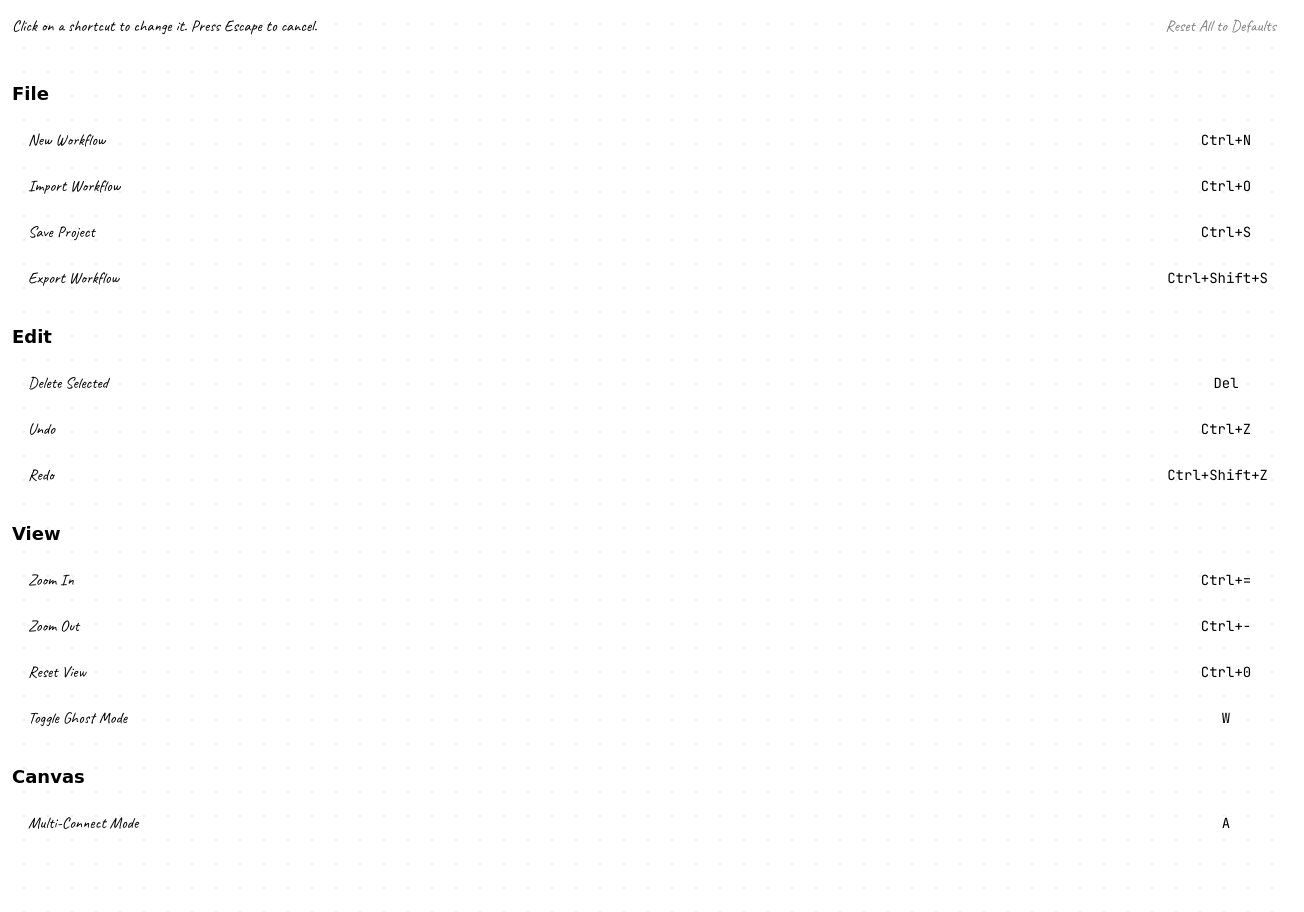
Scenario: KeybindingsPanel › editing mode › should exit editing mode when pressing Escape
// Enter editing mode
Step 1. Click the button "Del" → (1226, 383), box [1176, 370, 1276, 396]
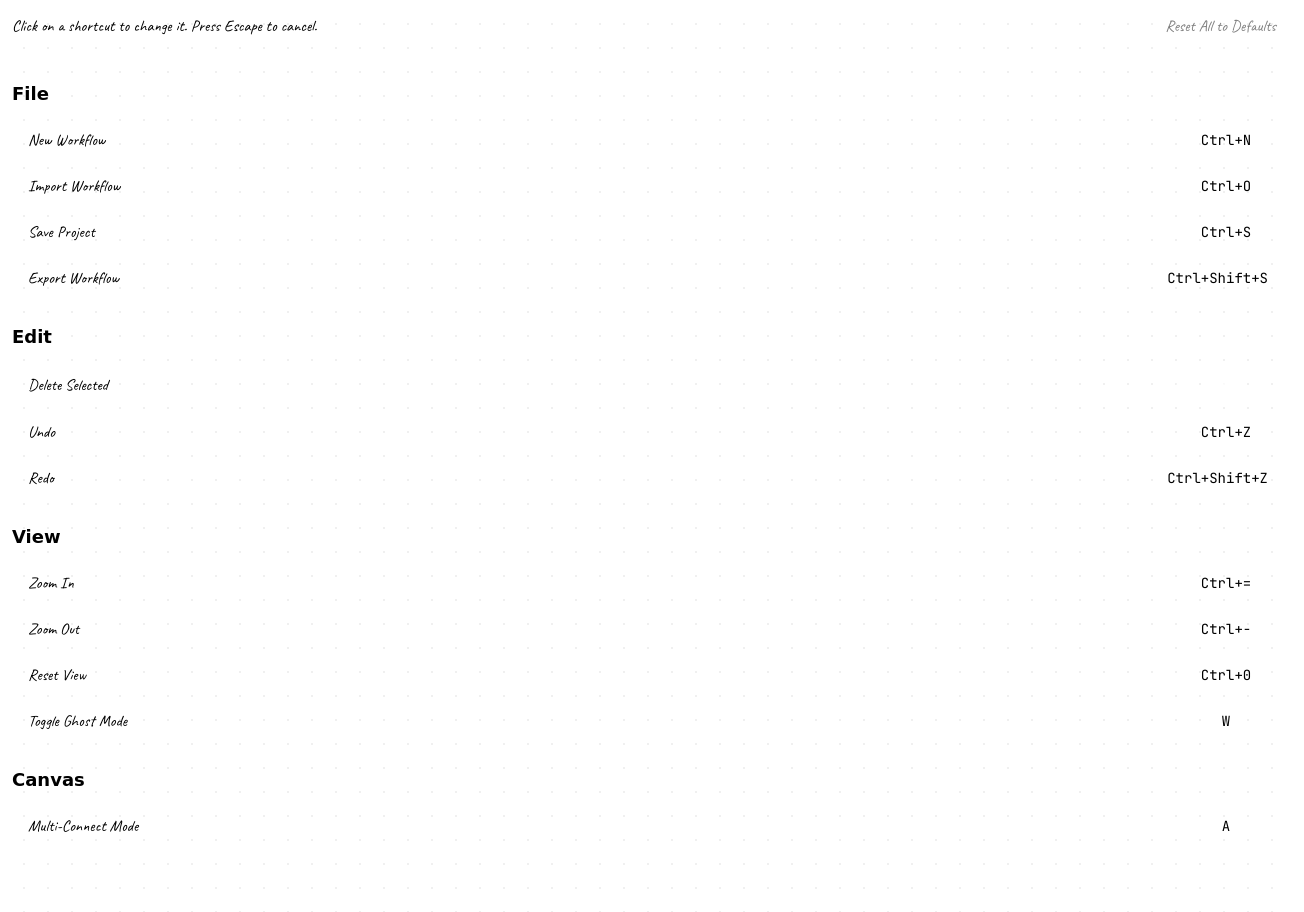
// Press Escape
Step 2. Press Escape
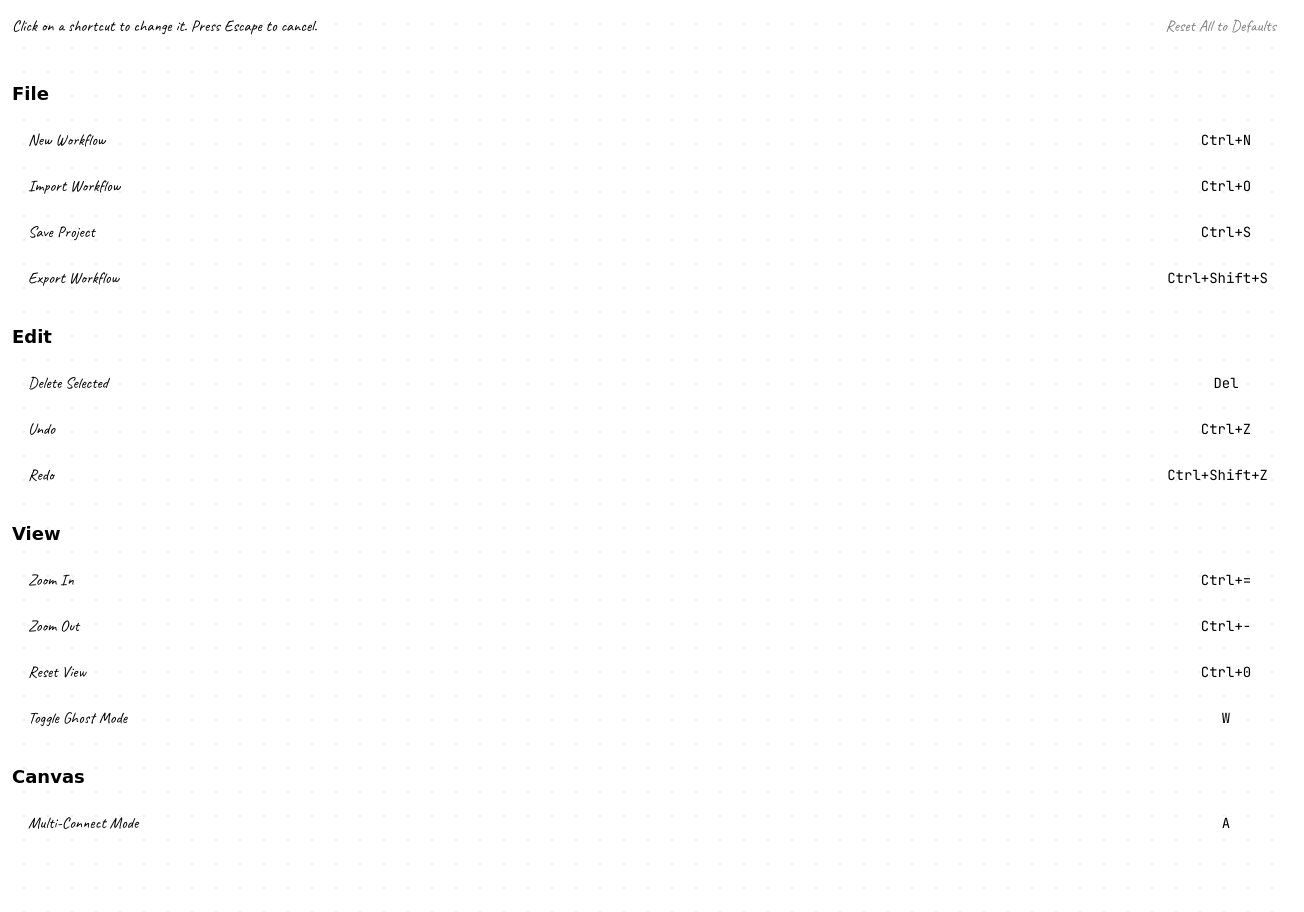
Check: the text "Press keys..." is gone
